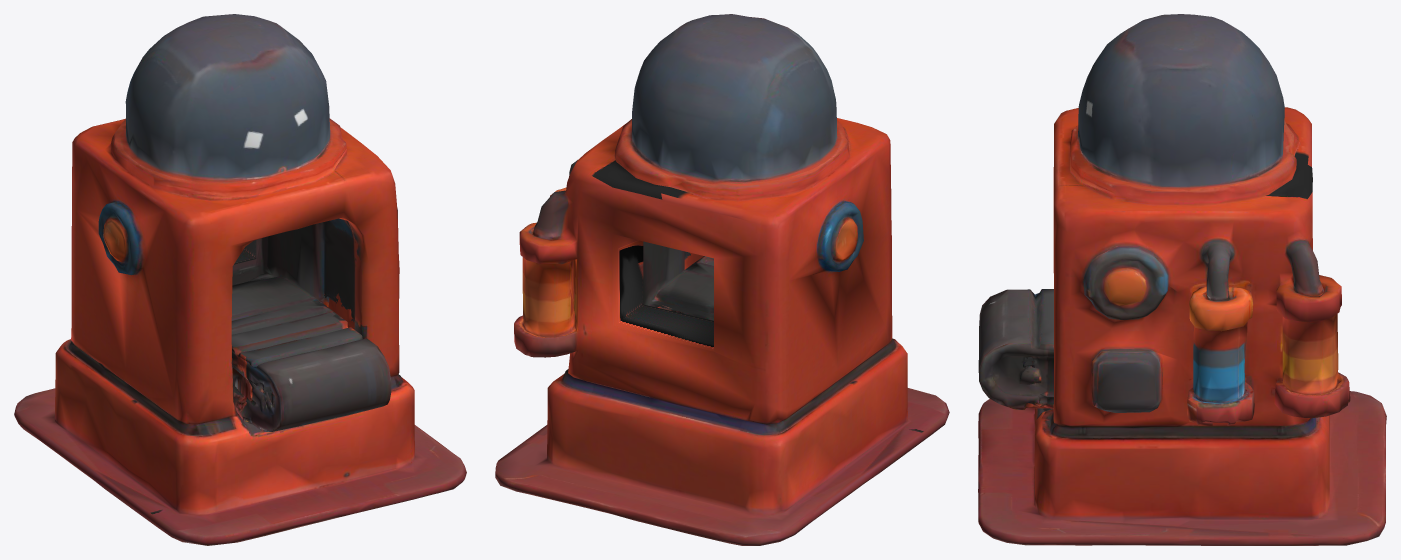
File: maquina.glb
The picture shows the model from 3 angles, left to right: view 1: azimuth 30°, elevation 25°; view 2: azimuth 150°, elevation 25°; view 3: azimuth 270°, elevation 25°; orthographic projection. The views are drawn at different scales.
Parts seen in each view (by area): view 1: Mesh1; view 2: Mesh1; view 3: Mesh1.
Boxes of the visible parts, x1,y1,x2,y2 form: Mesh1: [14, 14, 466, 545]; Mesh1: [495, 14, 949, 545]; Mesh1: [978, 14, 1386, 545].
Bounding box in the file's own units: 1.52 × 2 × 1.7.
Materials: 1 (1 with a texture image).
